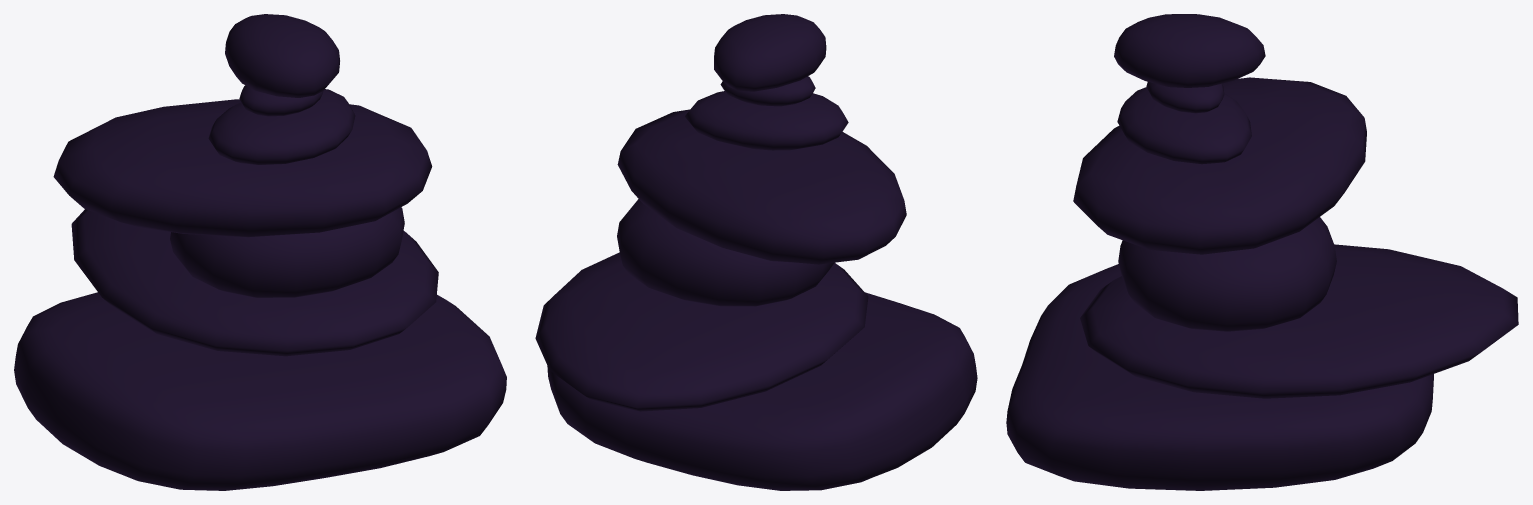
The model's file is beach_deco_stacked_rocks_01.fbx.
3 views of the same model, side by side, from view 1: azimuth 30°, elevation 25°; view 2: azimuth 150°, elevation 25°; view 3: azimuth 270°, elevation 25° (orthographic). The views are drawn at different scales.
Visible parts, largest first — view 1: StackedRocks; view 2: StackedRocks; view 3: StackedRocks.
Part boxes in pixels (x1,y1,x2,y2): StackedRocks: [14, 14, 506, 490]; StackedRocks: [535, 14, 977, 490]; StackedRocks: [1006, 14, 1518, 490].
Size of the model in its own units: 584 by 594 by 666.
